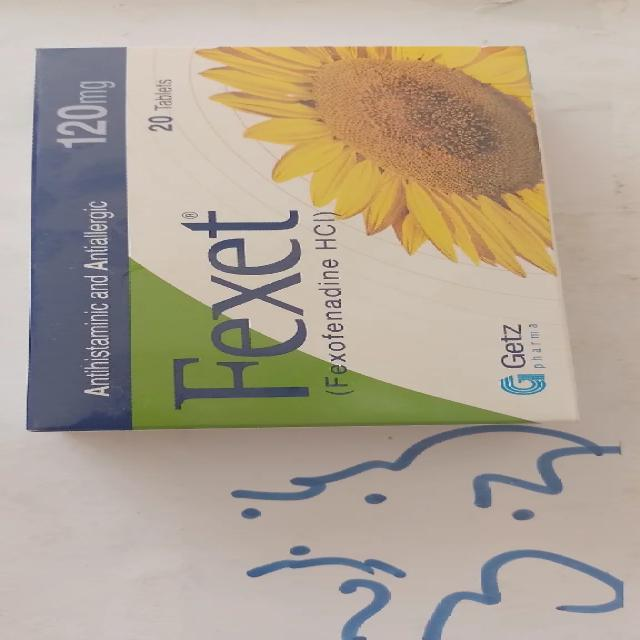drug-name: (172, 204, 312, 409)
